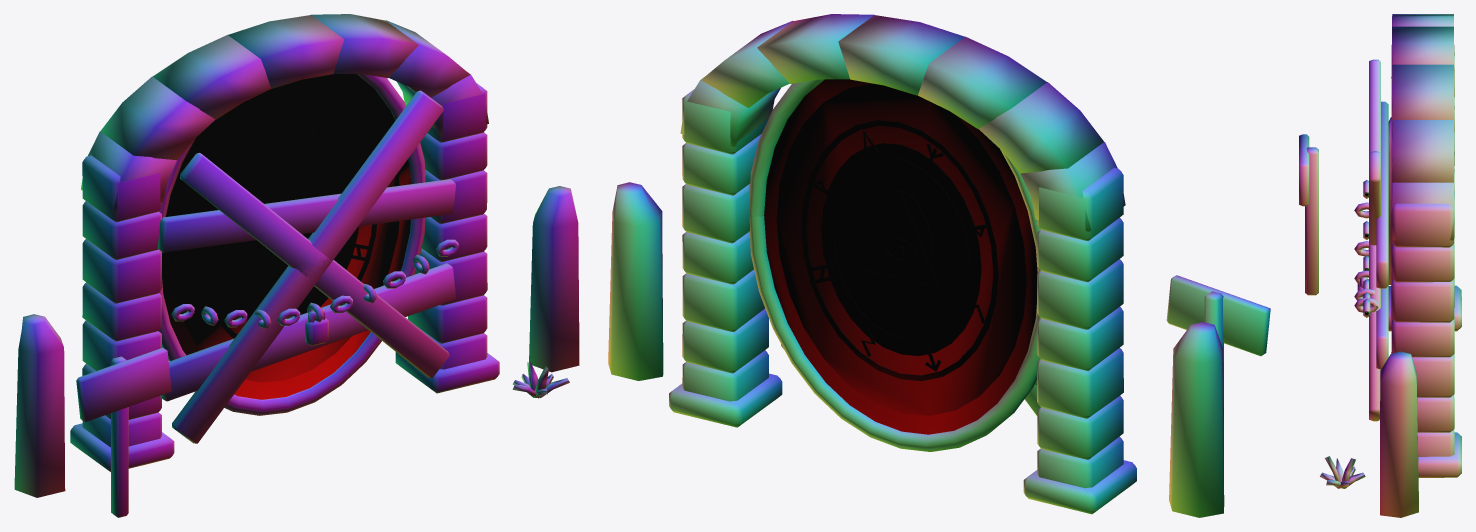
Rendered from SM_Prop_ExitGate_Sealed.fbx.
3 renders of one model, left to right at view 1: azimuth 30°, elevation 25°; view 2: azimuth 150°, elevation 25°; view 3: azimuth 270°, elevation 25°, orthographic. The views are drawn at different scales.
Parts seen in each view (by area): view 1: SM_Prop_ExitGate_Sealed; view 2: SM_Prop_ExitGate_Sealed; view 3: SM_Prop_ExitGate_Sealed.
Boxes of the visible parts, x1=… form: SM_Prop_ExitGate_Sealed: x1=14, y1=14, x2=579, y2=517; SM_Prop_ExitGate_Sealed: x1=608, y1=14, x2=1270, y2=517; SM_Prop_ExitGate_Sealed: x1=1299, y1=14, x2=1461, y2=517.
Size of the model in its own units: 4.06 by 2.63 by 1.1.
